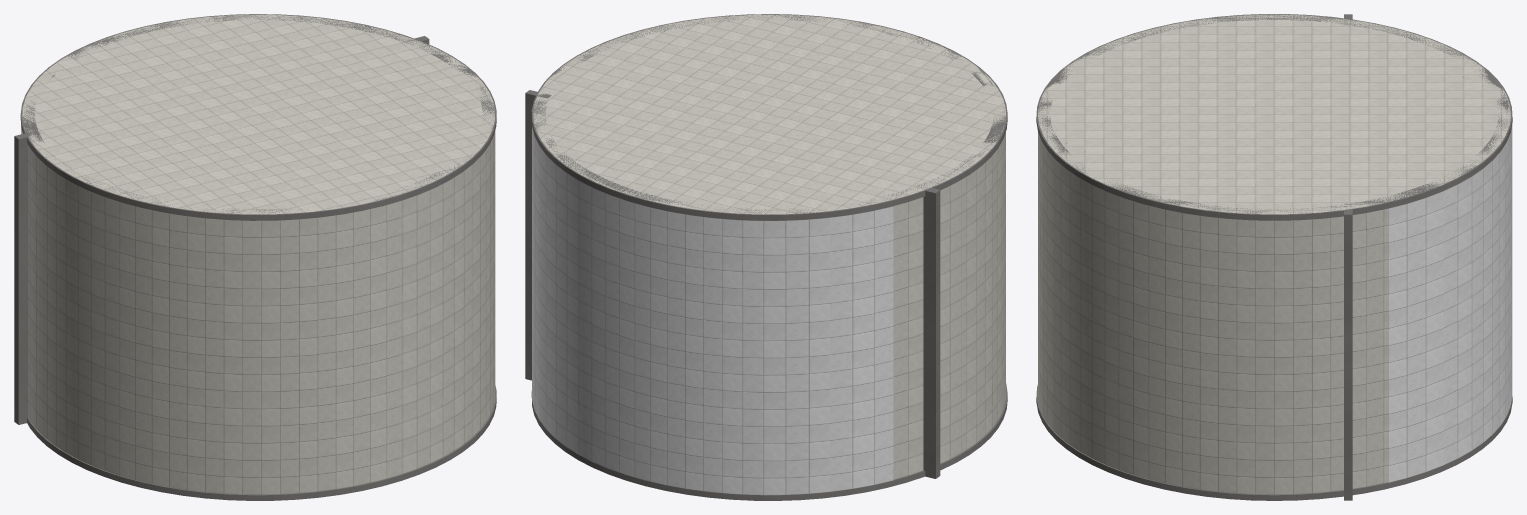
The model's file is aero02_mk3_fuselage_tank_250.glb.
3 renders of one model, left to right at view 1: azimuth 30°, elevation 25°; view 2: azimuth 150°, elevation 25°; view 3: azimuth 270°, elevation 25°, orthographic.
Visible parts, largest first — view 1: fuselage, end_frames, chines; view 2: fuselage, belly_tiles, end_frames, chines; view 3: fuselage, belly_tiles, end_frames, chines.
Part boxes in pixels (x1,y1,x2,y2): fuselage: [22, 14, 495, 494]; end_frames: [20, 14, 496, 500]; chines: [14, 36, 429, 424]; fuselage: [533, 14, 1005, 479]; belly_tiles: [532, 127, 893, 494]; end_frames: [531, 14, 1007, 500]; chines: [525, 90, 940, 478]; fuselage: [1038, 14, 1510, 494]; belly_tiles: [1388, 125, 1512, 482]; end_frames: [1036, 14, 1512, 500]; chines: [1344, 14, 1352, 500].
Size of the model in its own units: 3.77 by 2.5 by 3.77.
Materials: 3 (3 with a texture image).
